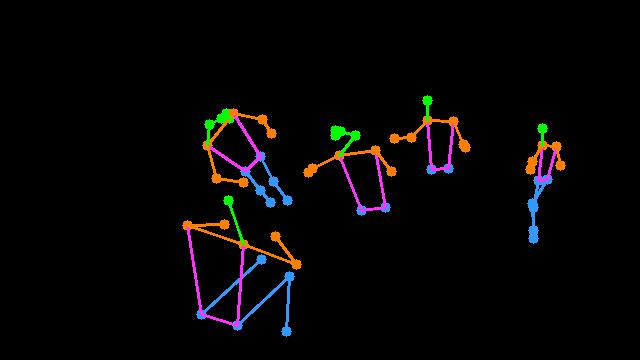normal: (503, 104, 580, 256)
